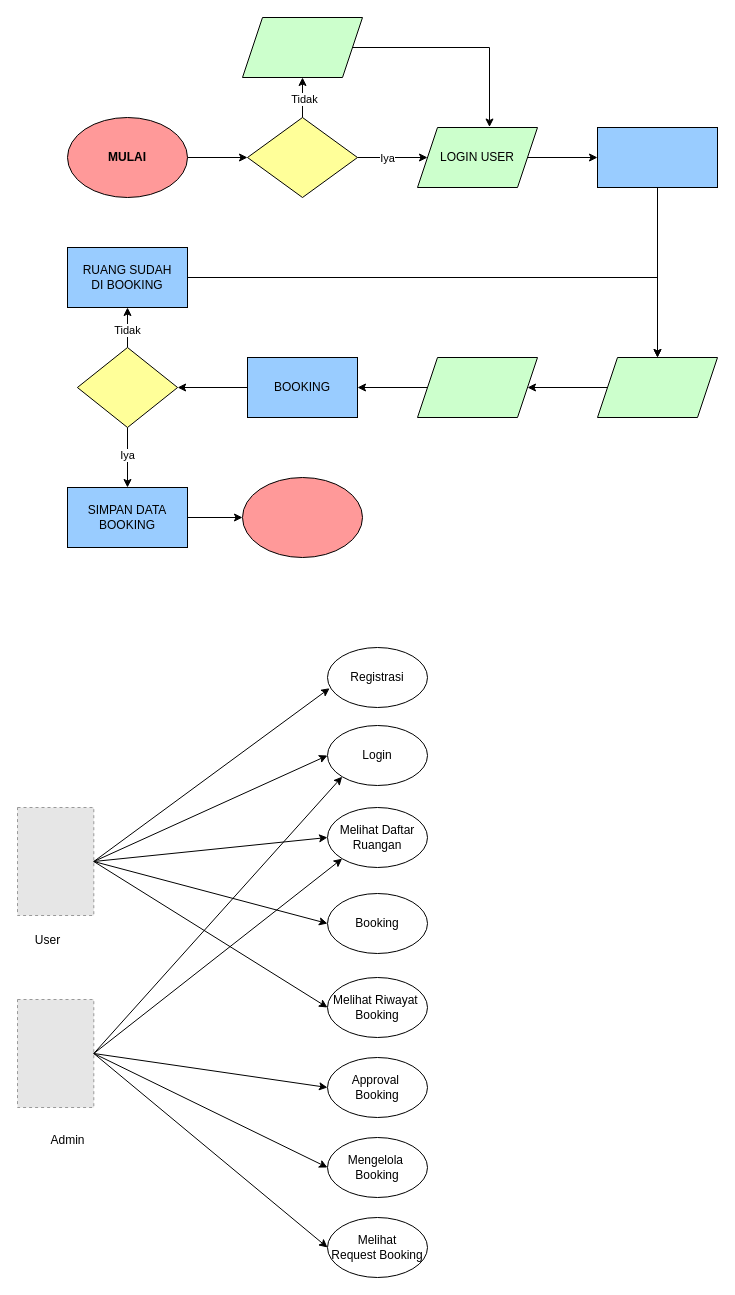
The diagram is 735 pixels wide and 1295 high, and some of its shapes have lost their labels. Grey dashed boxes stand in for pictures. Each missing label, with the centre of its shape:
MASUK DASHBOARD: the point at 657,157
MASUKKAN TANGGAL DAN WAKTU: the point at 477,387
PILIH RUANG RAPAT: the point at 657,387
PUNYA AKUN: the point at 302,157
REGISTRASI USER: the point at 302,47
RUANG TERSEDIA: the point at 127,387
SELESAI: the point at 302,517
